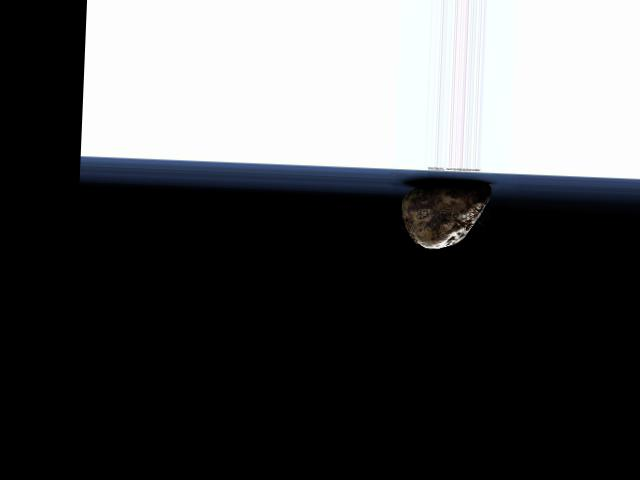beet: (398, 180, 490, 250)
